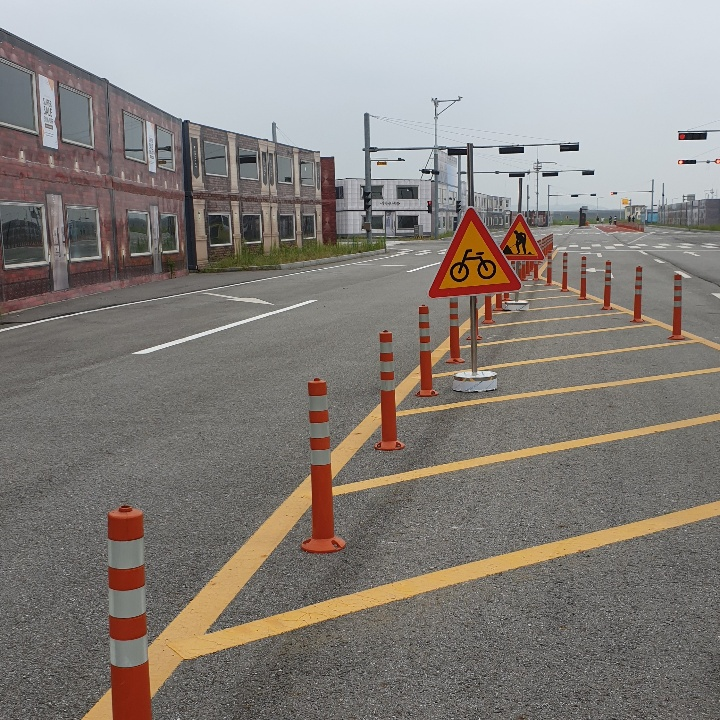bicycle: (429, 208, 521, 295)
const: (503, 224, 536, 255)
